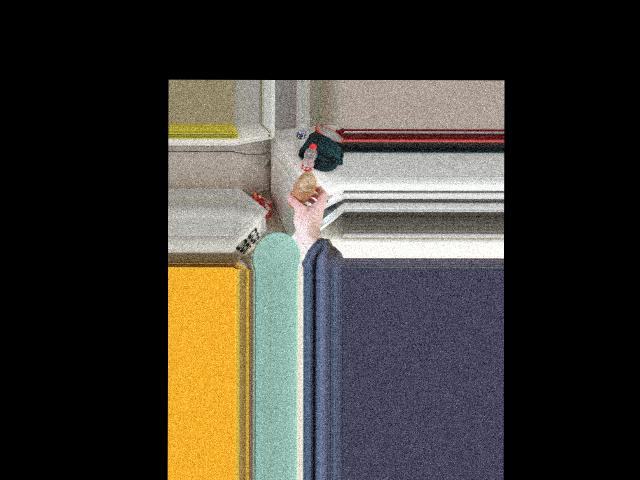sweet_potato: (285, 174, 318, 213)
